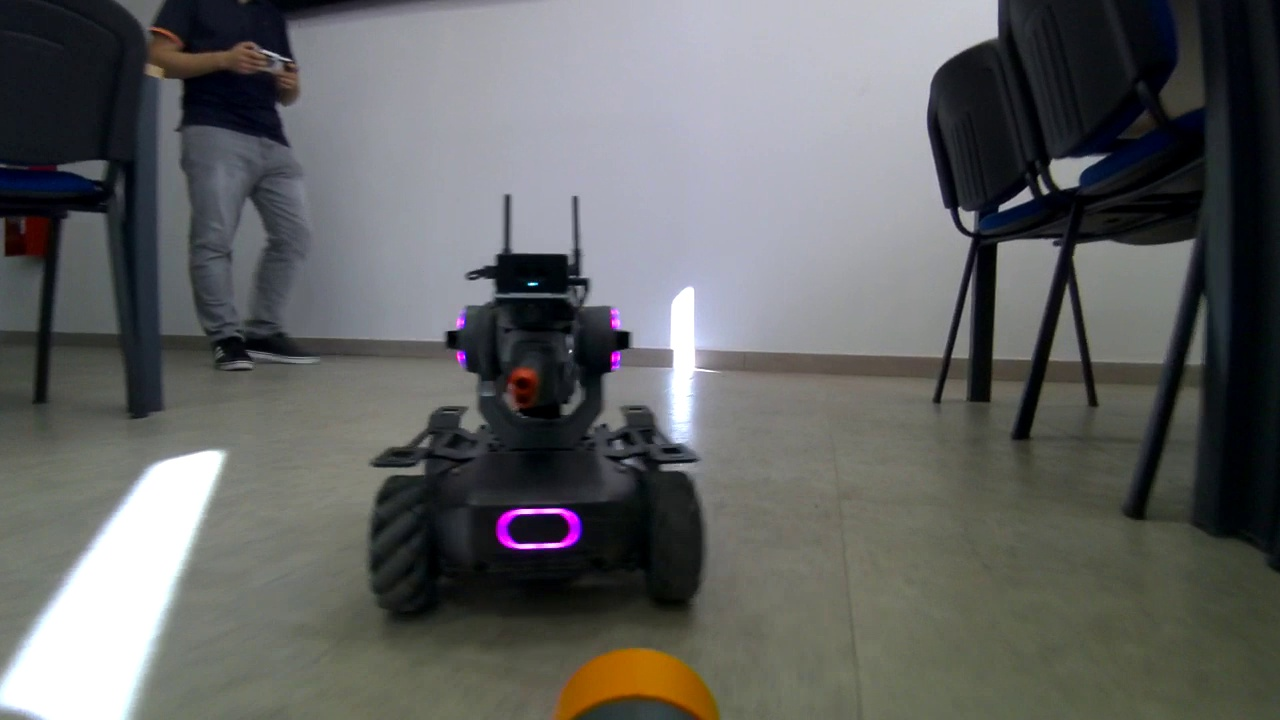robot: (375, 251, 706, 614)
